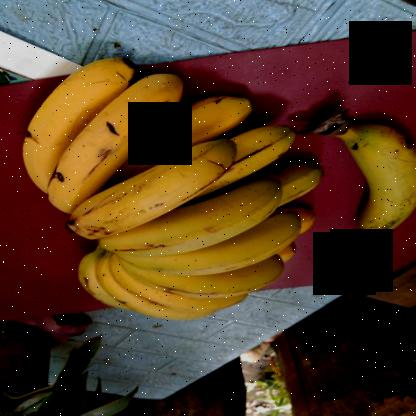ripe: (45, 69, 188, 212), (63, 142, 238, 240), (102, 179, 287, 263), (327, 119, 415, 245)
